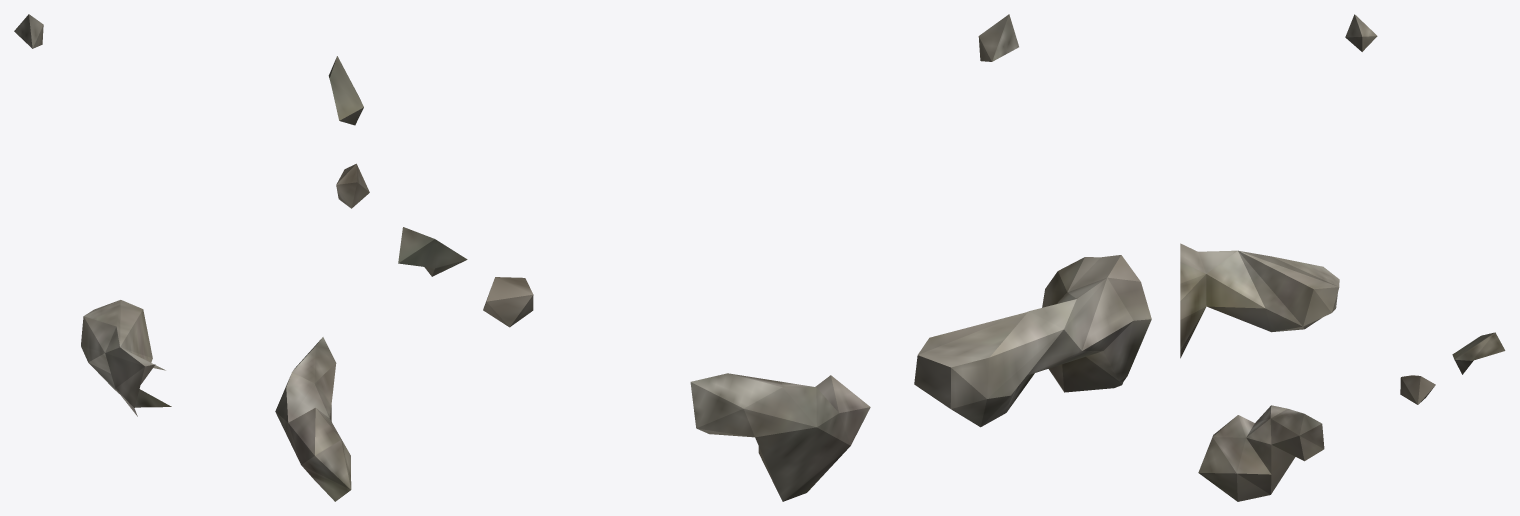
3 renders of one model, left to right at view 1: azimuth 30°, elevation 25°; view 2: azimuth 150°, elevation 25°; view 3: azimuth 270°, elevation 25°, orthographic. The views are drawn at different scales.
Size of the model in its own units: 1.77 by 2.04 by 1.51.
Materials: 1 (1 with a texture image).
